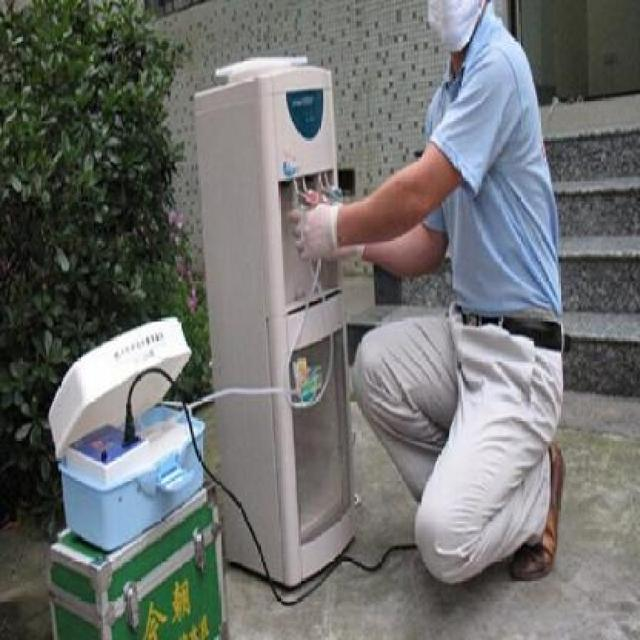cooler: (195, 54, 358, 587)
